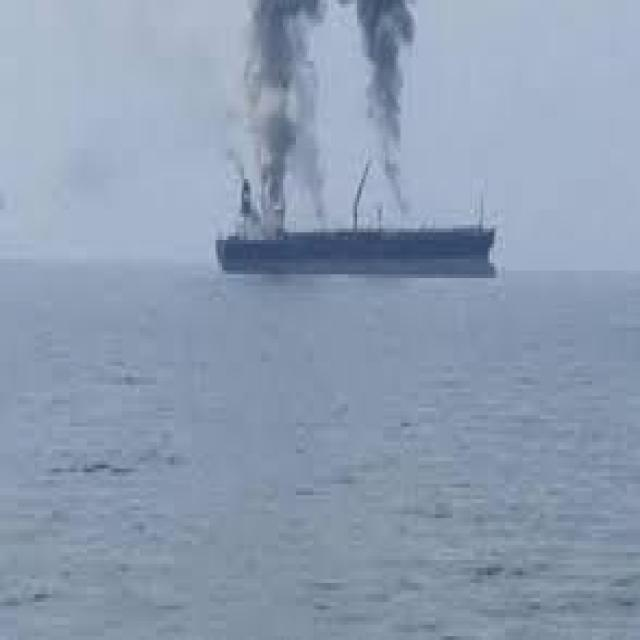cargoship: (178, 156, 514, 306)
